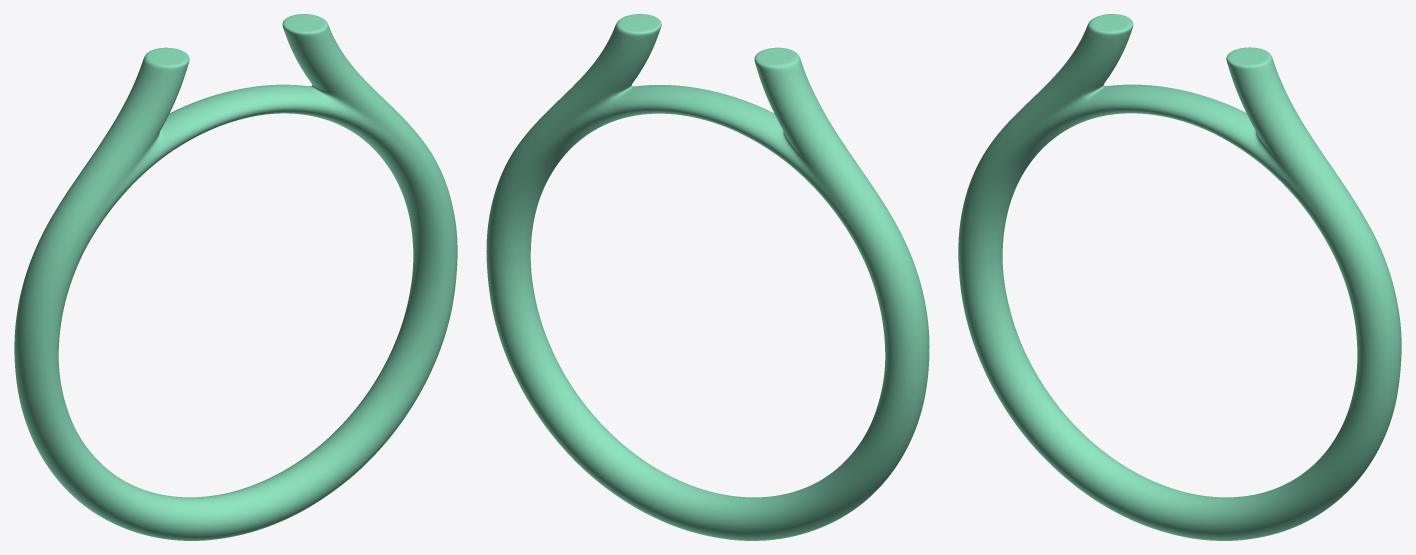
The picture shows the model from 3 angles, left to right: view 1: azimuth 30°, elevation 25°; view 2: azimuth 150°, elevation 25°; view 3: azimuth 330°, elevation 25°; orthographic projection.
Parts seen in each view (by area): view 1: Metal02; view 2: Metal02; view 3: Metal02.
Boxes of the visible parts, <box> form: Metal02: <box>14,14,457,540</box>; Metal02: <box>486,14,929,540</box>; Metal02: <box>958,14,1401,540</box>.
Size of the model in its own units: 20.9 by 22.59 by 1.99.
